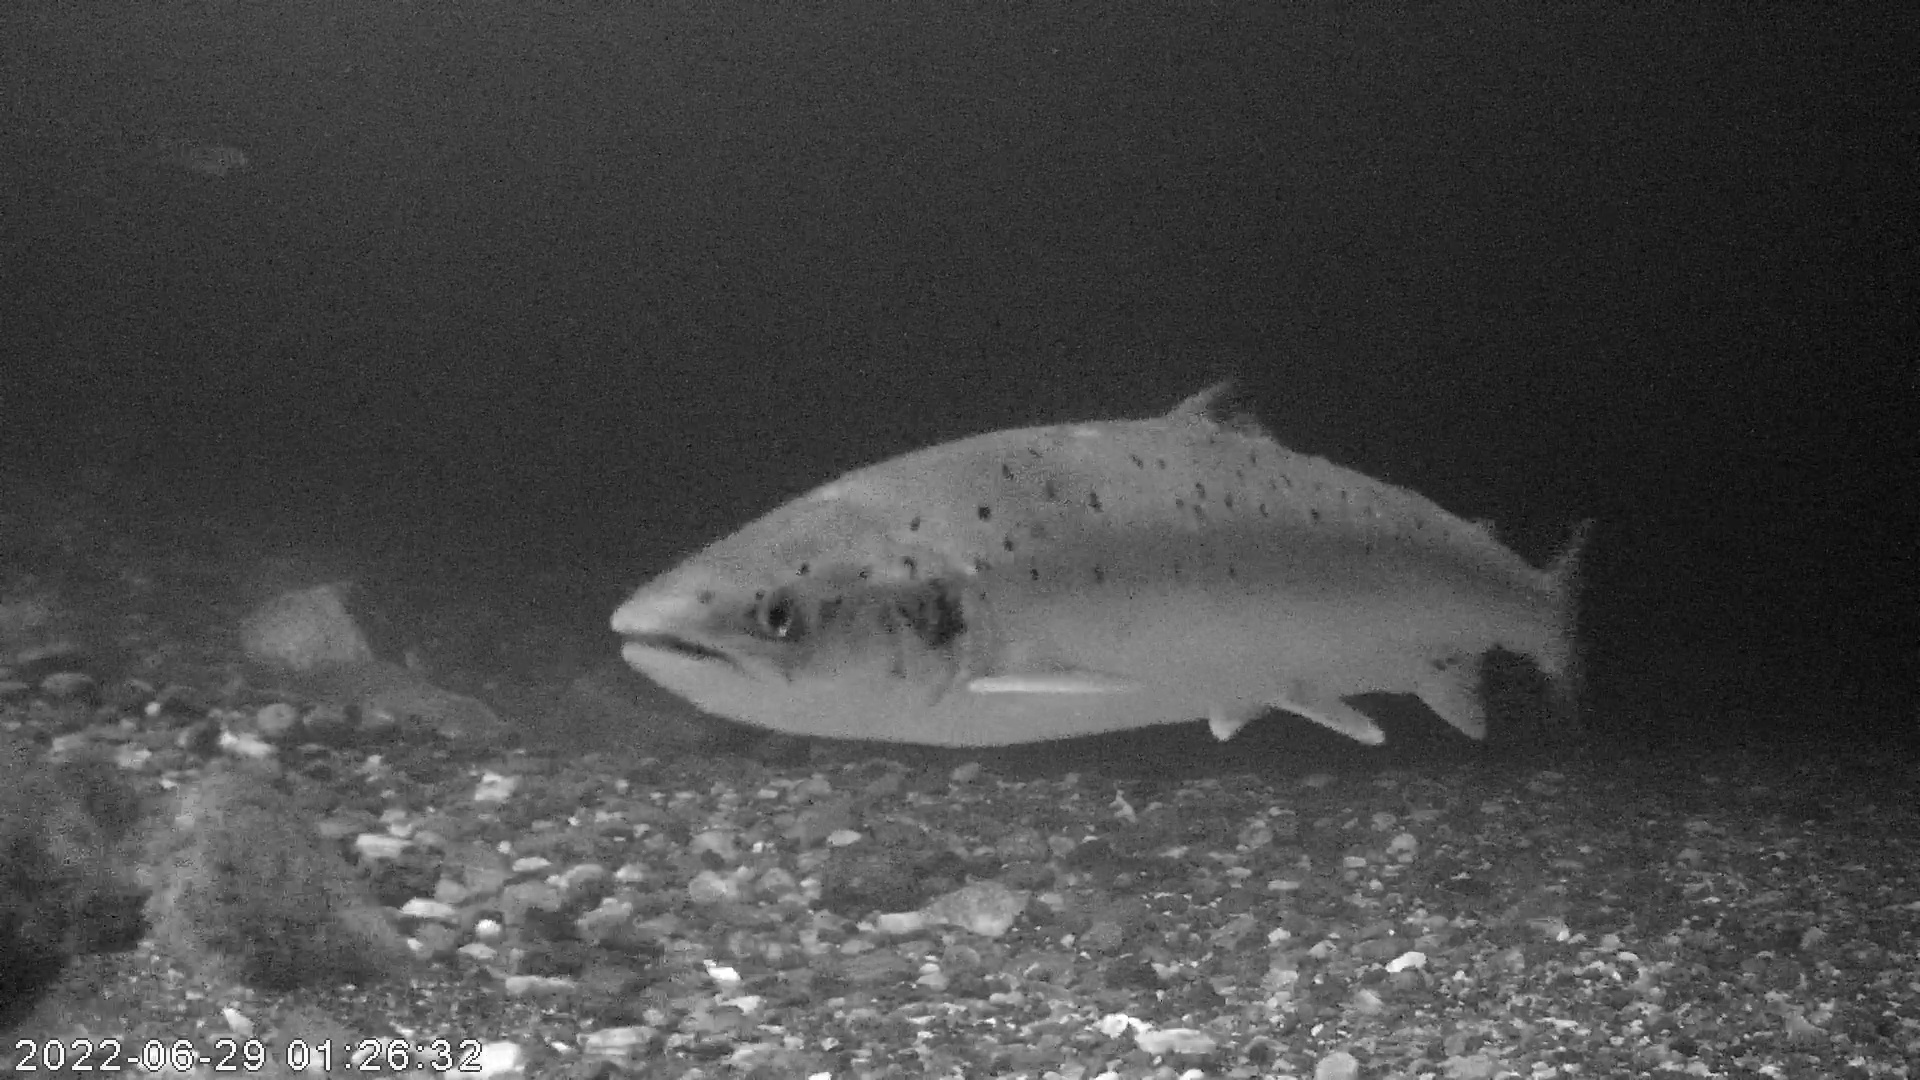salmon: (603, 367, 1605, 761)
